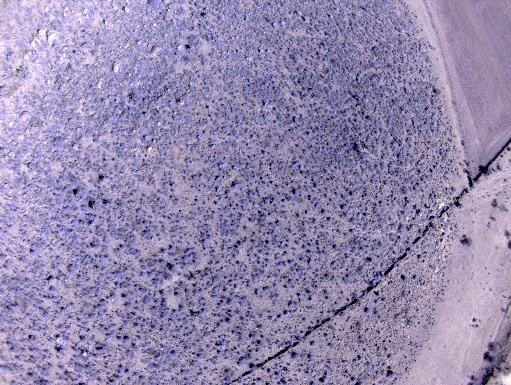agave: (84, 214, 98, 228), (216, 339, 229, 353), (319, 371, 331, 385), (46, 285, 59, 296), (98, 253, 111, 264), (236, 357, 248, 368), (386, 371, 399, 381), (193, 285, 206, 295), (182, 246, 195, 256), (115, 365, 126, 376), (221, 376, 236, 384), (260, 285, 273, 294), (272, 229, 281, 242), (339, 203, 350, 213), (291, 352, 302, 362), (170, 309, 181, 319), (225, 298, 235, 308), (291, 187, 301, 197), (222, 191, 232, 201), (142, 296, 152, 306), (373, 272, 382, 283), (230, 181, 241, 190), (273, 252, 282, 263), (248, 239, 259, 248), (289, 116, 300, 125), (195, 133, 203, 145), (288, 300, 298, 309), (252, 288, 261, 298), (216, 161, 226, 170), (173, 291, 183, 300), (123, 302, 133, 311), (79, 337, 89, 346), (331, 244, 342, 252), (281, 209, 289, 220), (180, 255, 191, 263), (159, 248, 170, 256), (276, 313, 285, 322), (214, 184, 223, 193), (231, 282, 240, 291), (376, 199, 385, 208), (123, 335, 132, 344), (115, 336, 124, 345), (106, 333, 115, 342), (249, 333, 259, 341), (360, 226, 371, 233), (147, 271, 158, 278), (350, 191, 359, 199), (307, 354, 315, 363), (274, 371, 283, 379), (386, 353, 395, 361), (405, 236, 413, 245), (198, 297, 207, 305), (213, 175, 222, 183), (227, 278, 235, 287), (133, 300, 142, 308), (284, 311, 293, 319), (340, 213, 350, 220), (310, 218, 320, 225), (230, 165, 240, 172), (263, 240, 273, 247), (215, 196, 225, 203), (168, 245, 178, 252), (331, 260, 339, 268), (416, 254, 424, 262), (287, 258, 295, 266), (417, 169, 425, 177), (432, 163, 440, 171), (206, 104, 214, 112), (209, 143, 217, 151), (268, 315, 276, 323), (160, 291, 168, 299), (29, 250, 37, 258), (398, 223, 407, 230), (365, 308, 374, 315), (349, 228, 358, 235), (309, 342, 318, 349), (171, 350, 178, 359), (325, 216, 334, 223), (245, 56, 254, 63), (140, 272, 149, 279), (135, 207, 144, 214), (357, 356, 366, 363), (401, 276, 409, 283), (363, 222, 371, 229), (349, 218, 357, 225), (323, 333, 331, 340), (306, 290, 314, 297), (315, 239, 322, 247), (262, 149, 270, 156), (269, 161, 276, 169), (251, 232, 259, 239), (223, 273, 230, 281), (211, 209, 219, 216), (390, 197, 397, 205), (201, 129, 209, 136), (163, 181, 171, 188), (76, 274, 84, 281), (314, 201, 322, 208), (110, 294, 117, 302), (101, 267, 109, 274), (134, 324, 142, 331), (230, 212, 237, 220), (274, 185, 283, 191), (235, 261, 244, 267), (171, 181, 177, 190), (413, 275, 420, 282), (371, 245, 378, 252), (400, 210, 407, 217), (374, 298, 381, 305), (359, 266, 366, 273), (267, 368, 274, 375), (257, 376, 264, 383), (227, 317, 234, 324), (178, 305, 185, 312), (242, 225, 249, 232), (411, 203, 418, 210), (84, 277, 91, 284), (308, 297, 316, 303), (138, 374, 144, 382), (321, 210, 329, 216), (206, 235, 214, 241), (213, 201, 221, 207), (382, 178, 390, 184), (270, 22, 278, 28), (134, 307, 142, 313), (259, 214, 268, 219), (260, 176, 267, 182), (119, 244, 126, 250), (412, 217, 418, 223), (298, 294, 304, 300), (396, 263, 402, 269), (222, 246, 228, 252), (212, 100, 218, 106), (325, 295, 332, 300), (429, 169, 436, 174), (265, 48, 272, 53), (346, 315, 351, 322), (281, 199, 288, 204), (379, 242, 384, 248), (363, 348, 369, 353), (270, 180, 275, 186), (219, 97, 225, 102), (245, 143, 251, 148)
